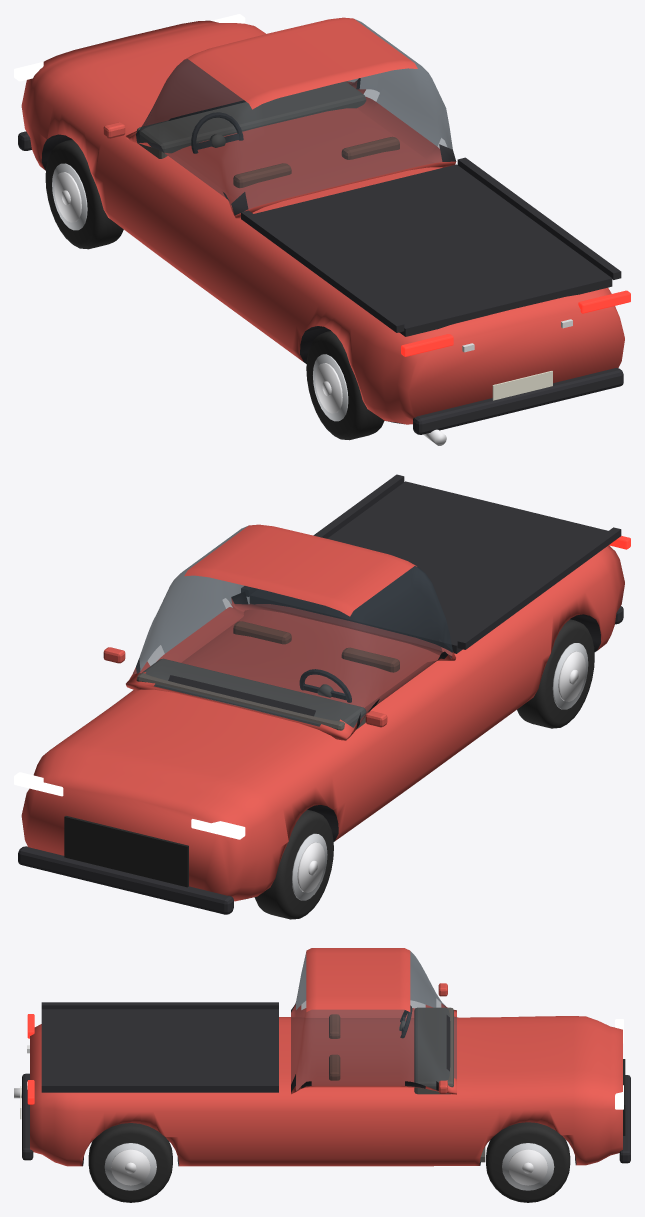
The model's file is t_pickup.glb.
The picture shows the model from 3 angles, top to bottom: view 1: azimuth 30°, elevation 25°; view 2: azimuth 150°, elevation 25°; view 3: azimuth 270°, elevation 25°; orthographic projection. The views are drawn at different scales.
Parts seen in each view (by area): view 1: Body.015, Glass.015, Interior.015, Wheel_FL.015, Wheel_RL.015, Lights_Tail.015, SteeringWheel.015; view 2: Body.015, Glass.015, Interior.015, Wheel_FL.015, Wheel_RL.015, Lights_Head.015, SteeringWheel.015; view 3: Body.015, Glass.015, Wheel_FR.015, Wheel_RR.015, Interior.015, Lights_Tail.015.
Boxes of the visible parts, bbox=[...] form: Body.015: bbox=[18, 17, 624, 445]; Glass.015: bbox=[135, 19, 452, 209]; Interior.015: bbox=[136, 81, 399, 187]; Wheel_FL.015: bbox=[45, 139, 123, 249]; Wheel_RL.015: bbox=[306, 331, 384, 440]; Lights_Tail.015: bbox=[401, 290, 630, 356]; SteeringWheel.015: bbox=[191, 112, 243, 153]; Body.015: bbox=[18, 474, 624, 914]; Glass.015: bbox=[133, 525, 452, 727]; Interior.015: bbox=[136, 621, 399, 730]; Wheel_FL.015: bbox=[254, 809, 333, 919]; Wheel_RL.015: bbox=[517, 619, 594, 728]; Lights_Head.015: bbox=[14, 772, 245, 839]; SteeringWheel.015: bbox=[299, 669, 351, 702]; Body.015: bbox=[14, 948, 630, 1166]; Glass.015: bbox=[291, 951, 456, 1091]; Wheel_FR.015: bbox=[486, 1122, 570, 1202]; Wheel_RR.015: bbox=[88, 1123, 172, 1202]; Interior.015: bbox=[329, 1007, 485, 1162]; Lights_Tail.015: bbox=[27, 1014, 34, 1104].
Size of the model in its own units: 2.16 by 1.8 by 5.41.
